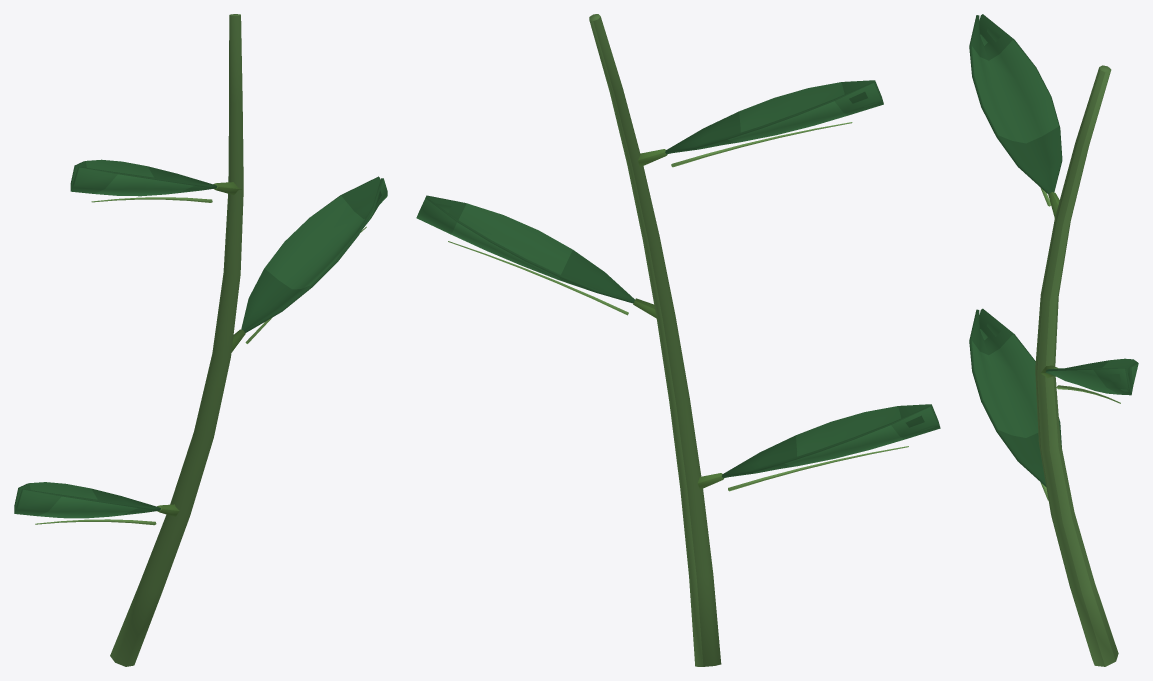
The model's file is garden-zinnia-bud-stem-2.glb.
3 views of the same model, side by side, from view 1: azimuth 30°, elevation 25°; view 2: azimuth 150°, elevation 25°; view 3: azimuth 270°, elevation 25° (orthographic). The views are drawn at different scales.
Parts seen in each view (by area): view 1: zinnia-bud-stem-2; view 2: zinnia-bud-stem-2; view 3: zinnia-bud-stem-2.
Part boxes in pixels (bbox=[...]): zinnia-bud-stem-2: bbox=[14, 14, 387, 666]; zinnia-bud-stem-2: bbox=[416, 14, 940, 666]; zinnia-bud-stem-2: bbox=[969, 14, 1138, 666].
Size of the model in its own units: 0.2693 by 0.358 by 0.0843.
